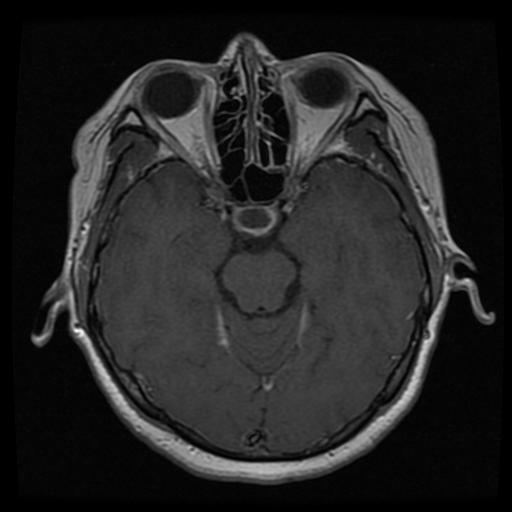Pituirity_tumour: (227, 202, 282, 236)
